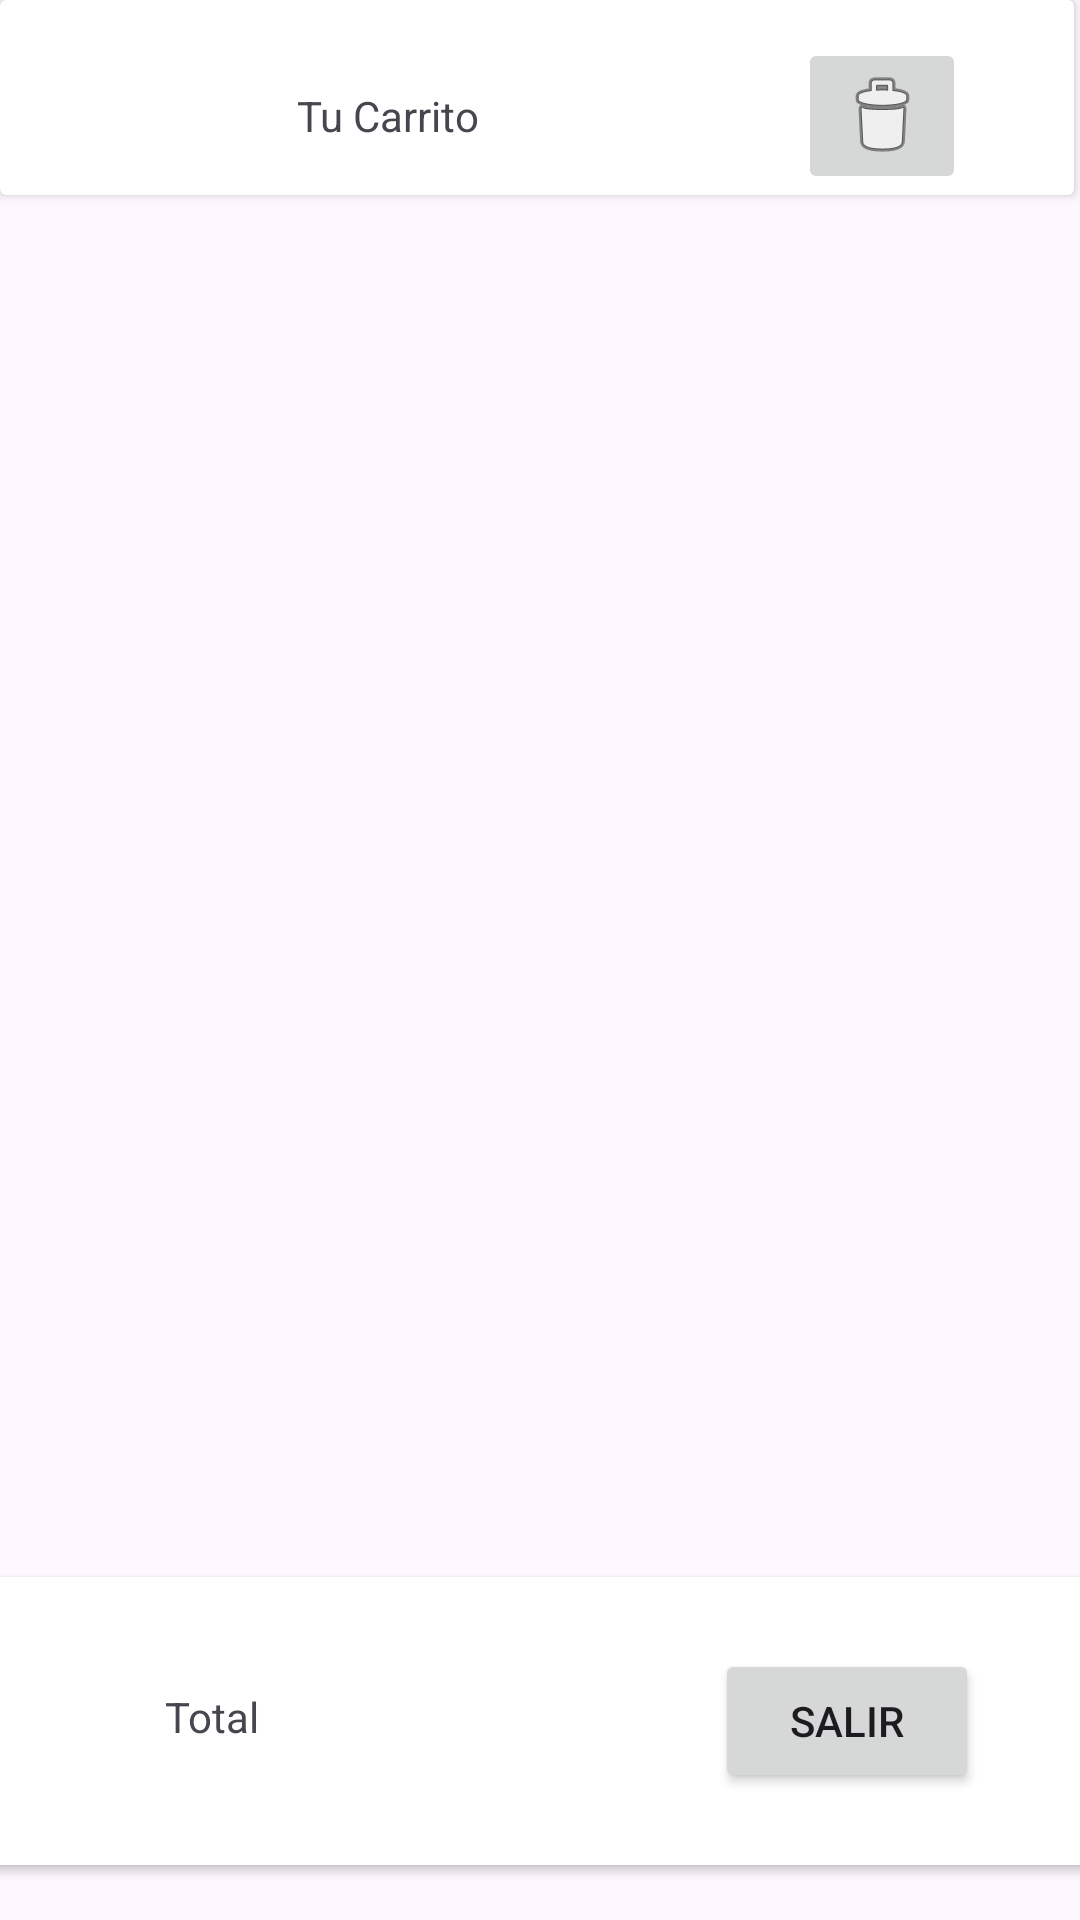

Screen size 1080×1920. Icon name, then its center in pixels as (x=x, y=y):
Vaciar Carro: (x=882, y=116)
